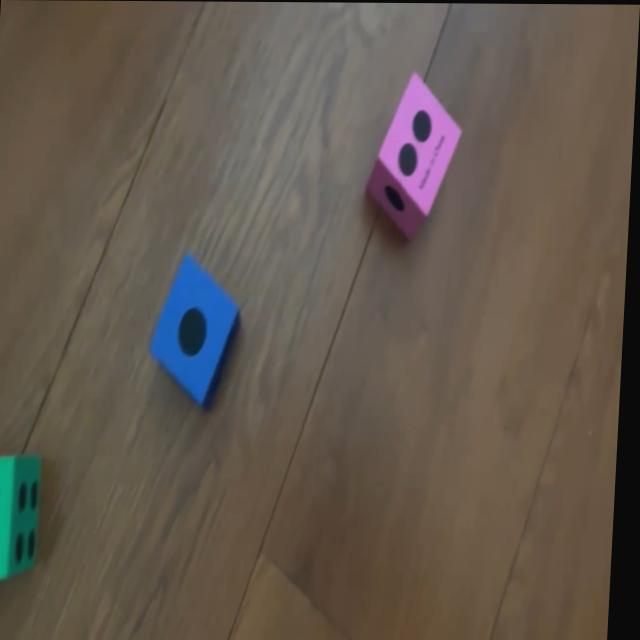cube: (150, 256, 245, 407), (0, 457, 45, 584)
